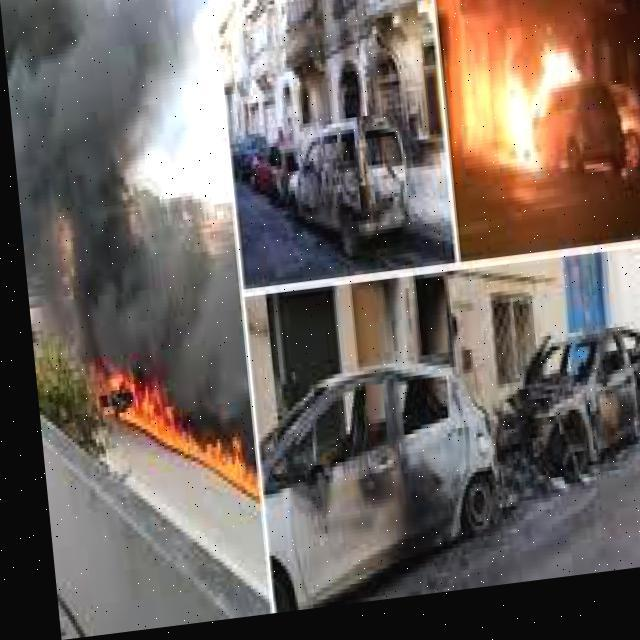Fire: (80, 334, 244, 520), (493, 36, 639, 204)
